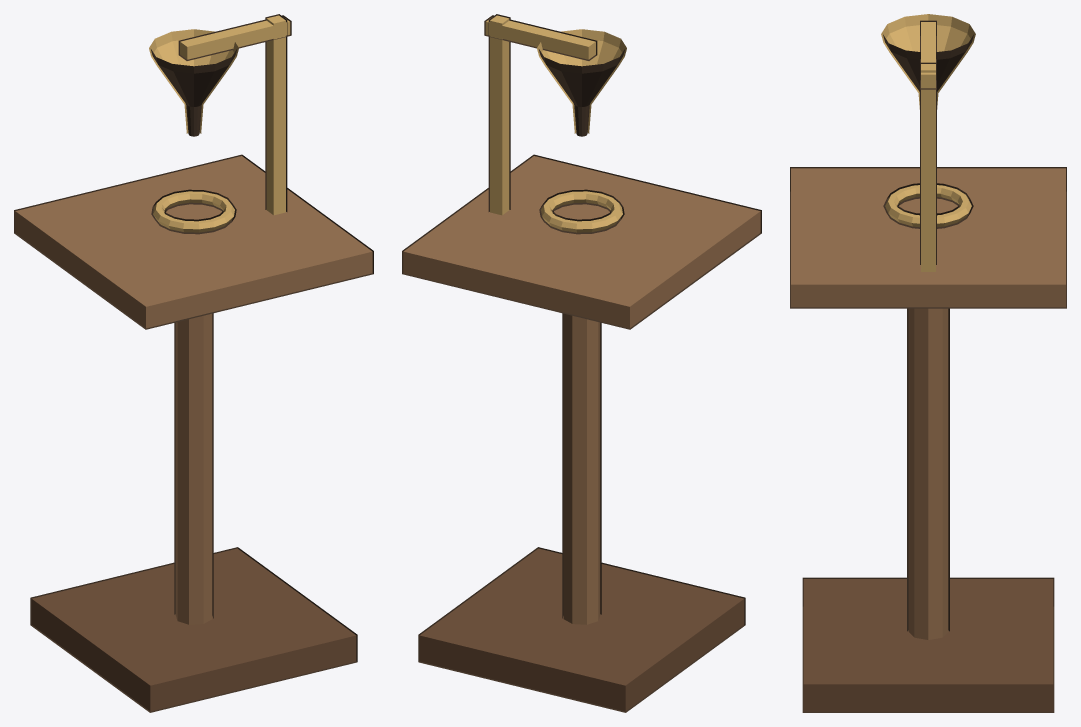
The model's file is bottling_stand.glb.
The picture shows the model from 3 angles, left to right: view 1: azimuth 30°, elevation 25°; view 2: azimuth 150°, elevation 25°; view 3: azimuth 270°, elevation 25°; orthographic projection. The views are drawn at different scales.
Visible parts, largest first — view 1: Top, Base, Post, Arm, Funnel, Holder, ArmTop; view 2: Top, Base, Post, Arm, Funnel, Holder, ArmTop; view 3: Top, Base, Post, Funnel, Arm, Holder, ArmTop.
Boxes of the visible parts, left/top/right/bottom form: Top: left=14, top=154, right=373, bottom=329; Base: left=30, top=547, right=357, bottom=712; Post: left=174, top=313, right=213, bottom=624; Arm: left=265, top=14, right=287, bottom=215; Funnel: left=149, top=29, right=238, bottom=136; Holder: left=151, top=189, right=236, bottom=234; ArmTop: left=178, top=15, right=291, bottom=60; Top: left=402, top=154, right=761, bottom=329; Base: left=418, top=547, right=745, bottom=712; Post: left=562, top=313, right=601, bottom=624; Arm: left=488, top=14, right=510, bottom=215; Funnel: left=537, top=29, right=626, bottom=136; Holder: left=539, top=189, right=624, bottom=234; ArmTop: left=484, top=15, right=597, bottom=60; Top: left=790, top=167, right=1066, bottom=308; Base: left=802, top=577, right=1054, bottom=712; Post: left=907, top=308, right=949, bottom=639; Funnel: left=881, top=14, right=975, bottom=109; Arm: left=920, top=62, right=936, bottom=271; Holder: left=883, top=183, right=973, bottom=228; ArmTop: left=920, top=20, right=936, bottom=89.
Bounding box in the file's own units: 0.554 × 1.4 × 0.554.
